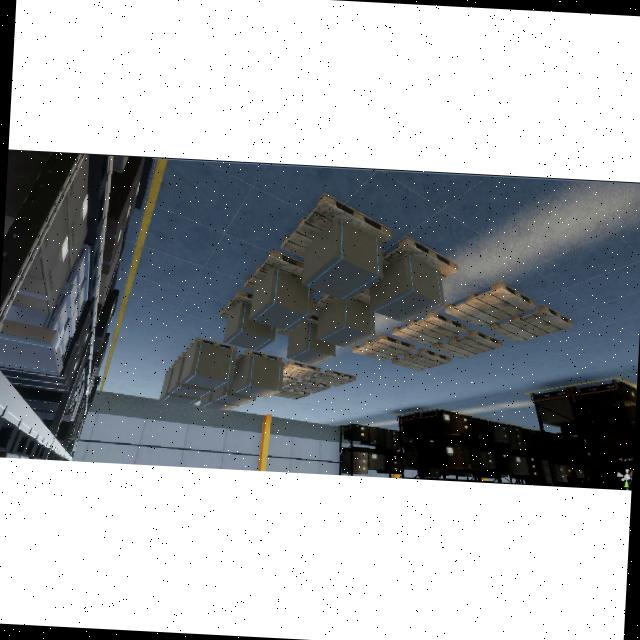wooden_pallet: (281, 193, 392, 259), (444, 280, 536, 329), (382, 237, 458, 281), (489, 304, 574, 343), (243, 250, 304, 292), (392, 312, 467, 346), (432, 330, 504, 359), (353, 334, 416, 361), (392, 348, 452, 372), (219, 289, 253, 320), (185, 338, 238, 355), (309, 369, 357, 387), (283, 361, 322, 381), (235, 350, 283, 365), (289, 380, 330, 394), (273, 388, 311, 400), (282, 376, 298, 389)
